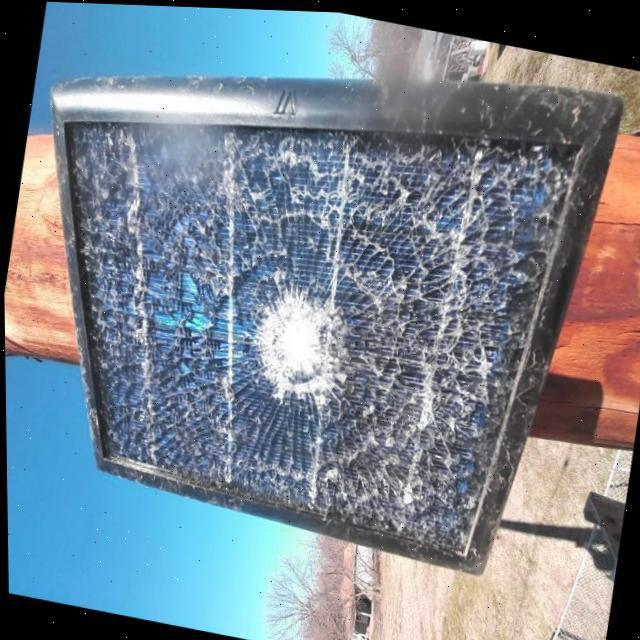Anomaly Solar Panel: (62, 107, 577, 554)
Structural Damage: (178, 208, 438, 462)
